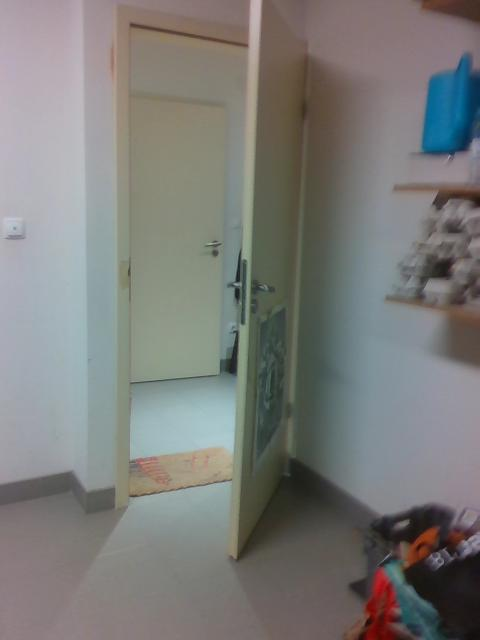semi_door: (109, 3, 312, 564)
